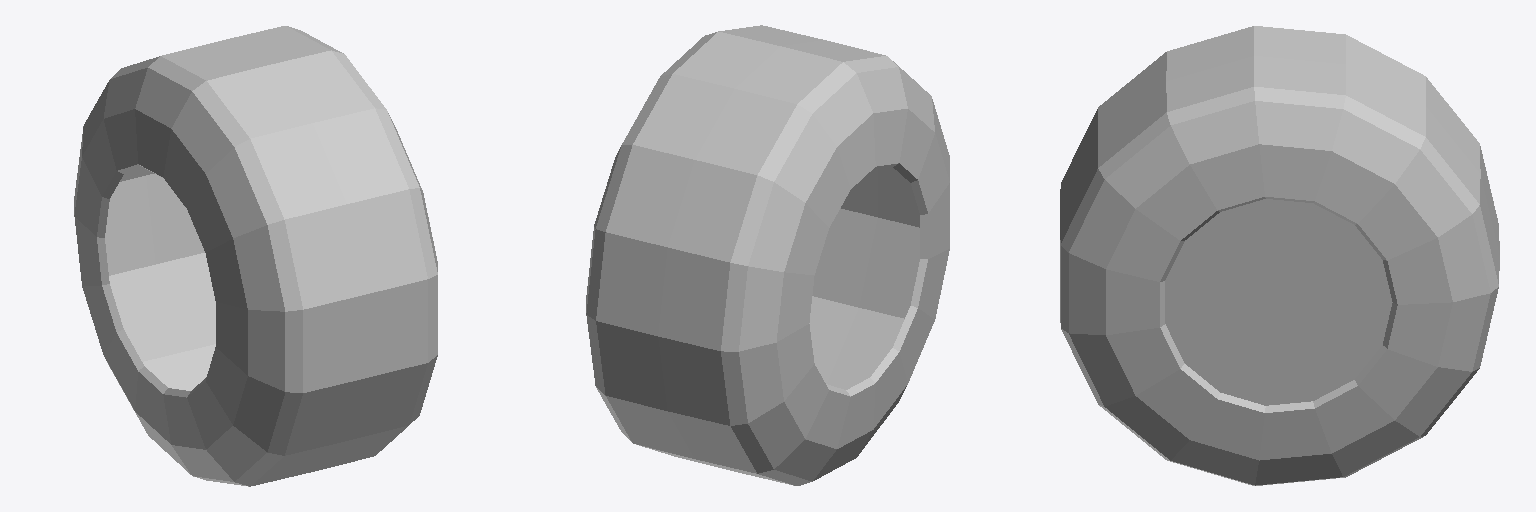
Rendered from Wheel L.obj.
The picture shows the model from 3 angles: view 1: azimuth 30°, elevation 25°; view 2: azimuth 150°, elevation 25°; view 3: azimuth 270°, elevation 25°; orthographic projection.
Visible parts, largest first — view 1: Wheel_R Jeep; view 2: Wheel_R Jeep; view 3: Wheel_R Jeep.
Boxes of the visible parts, box(x1,y1,x2,y2) form: Wheel_R Jeep: box(74, 26, 437, 486); Wheel_R Jeep: box(586, 25, 949, 485); Wheel_R Jeep: box(1060, 26, 1499, 485).
Bounding box in the file's own units: 1.05 × 2.01 × 2.